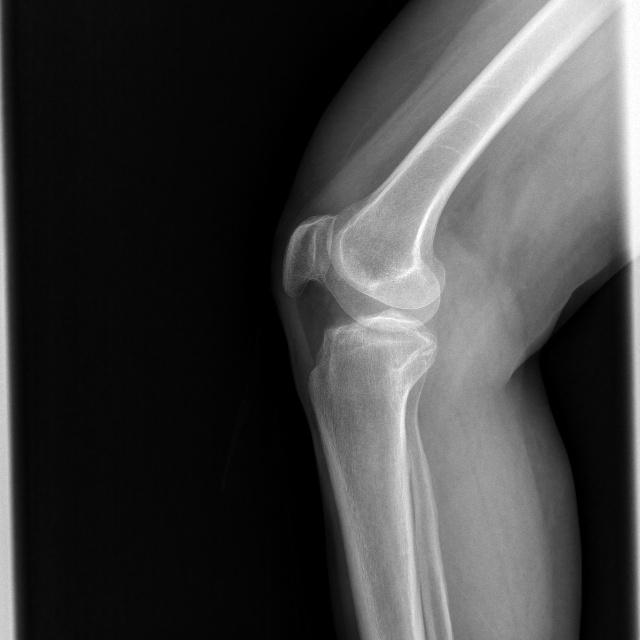Knee: (280, 206, 447, 402)
